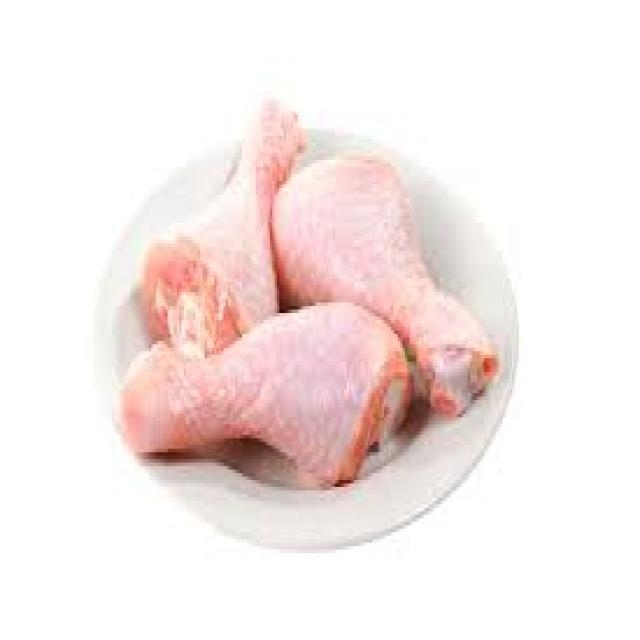leg: (155, 88, 295, 350)
